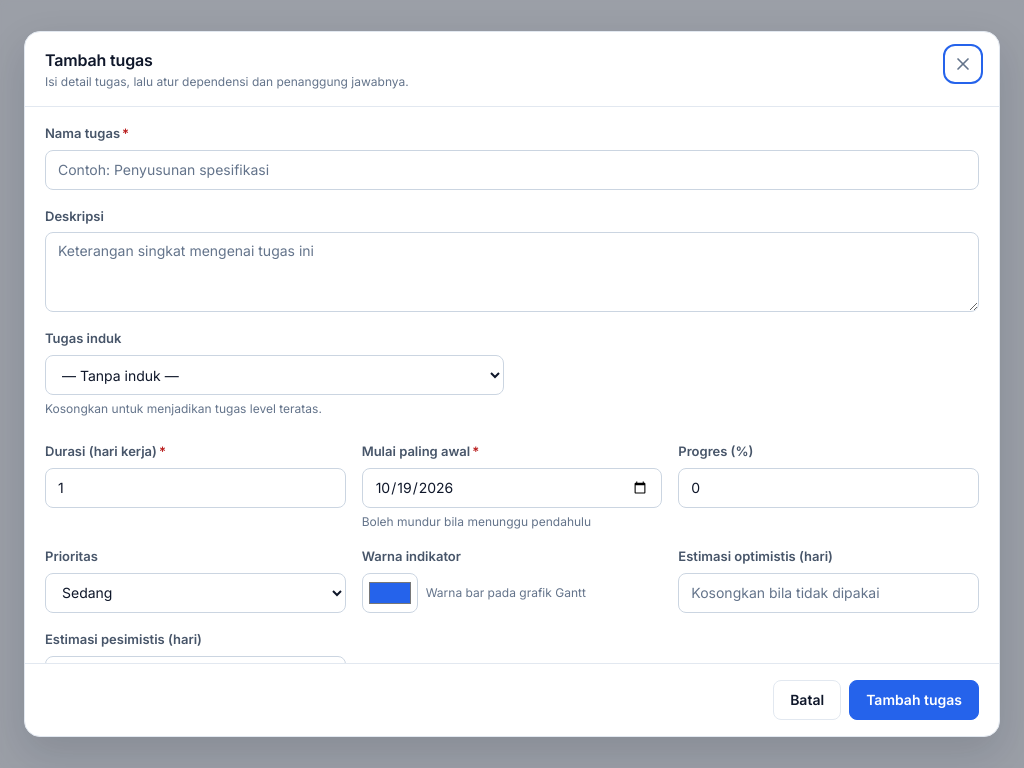
TaskDialog › menampilkan pesan validasi ketika nama tugas kosong
Click the button "Tambah tugas" at {"x": 914, "y": 700}, box [849,680,979,720]
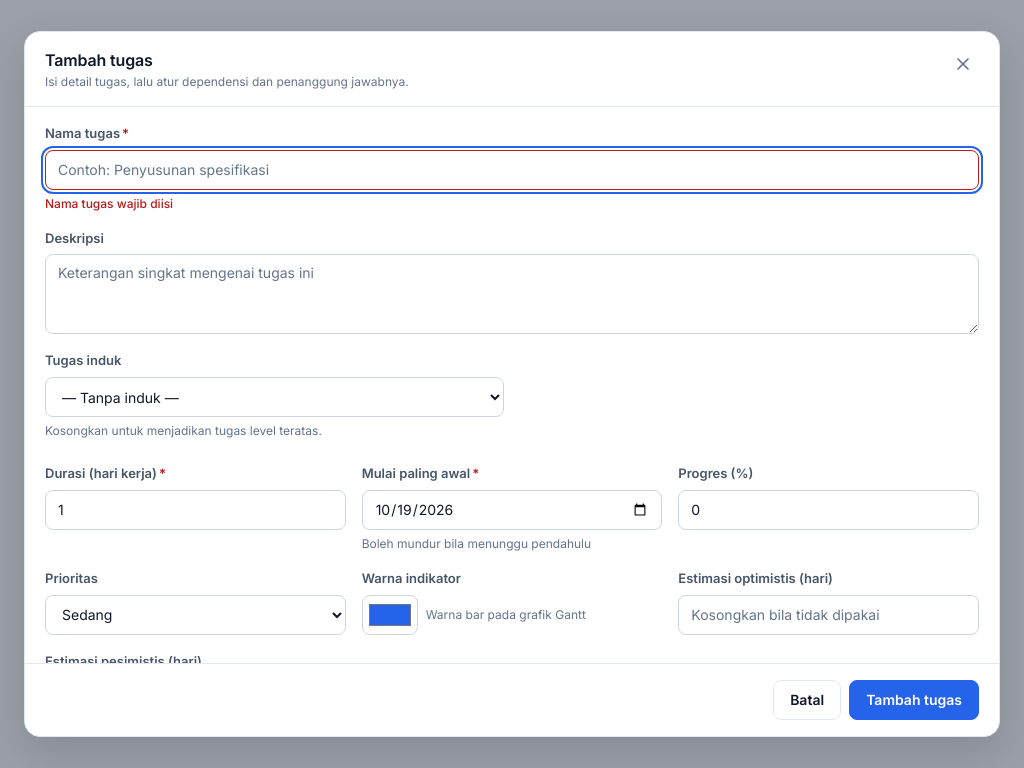
Expected: the text "Nama tugas wajib diisi" is shown, [45,196,173,210]
